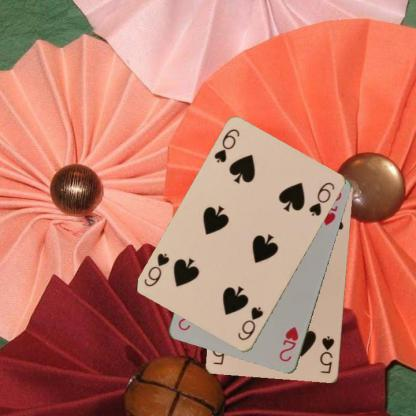2h: (277, 325, 300, 363)
5s: (317, 333, 336, 375)
6s: (235, 304, 265, 342), (211, 126, 241, 164)
